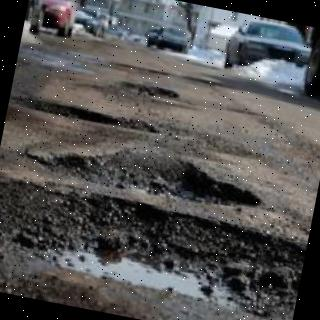pothole: (0, 177, 306, 316), (49, 151, 260, 206), (8, 95, 119, 125), (115, 80, 179, 99)
